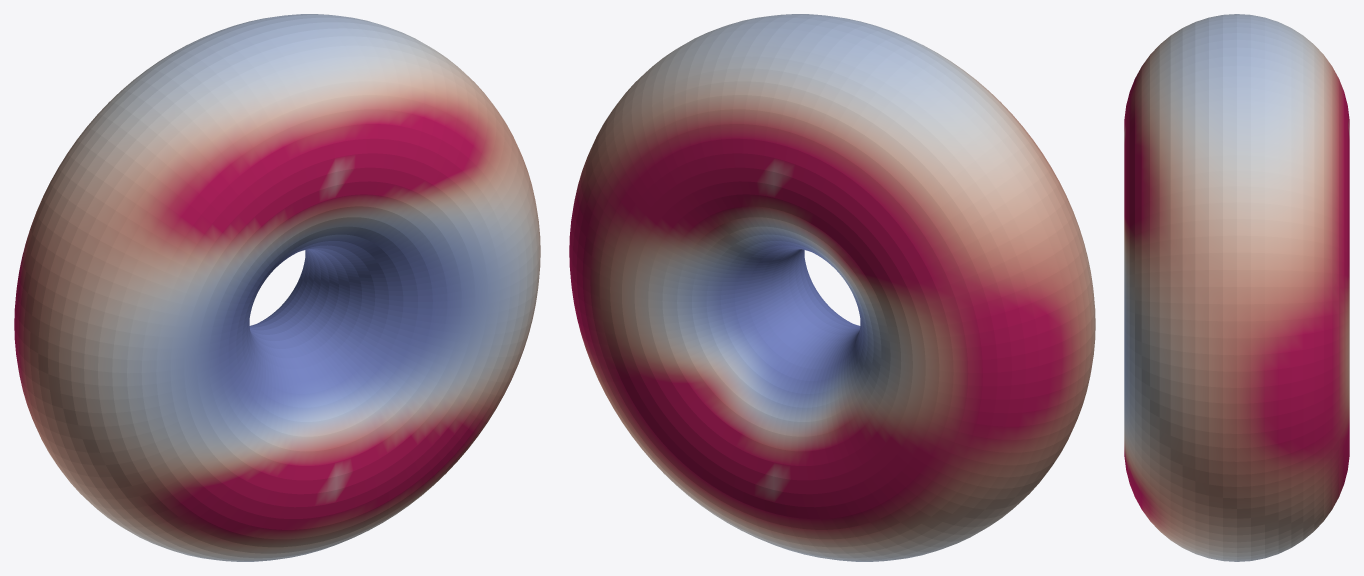
3 views of the same model, side by side, from view 1: azimuth 30°, elevation 25°; view 2: azimuth 150°, elevation 25°; view 3: azimuth 270°, elevation 25° (orthographic). The views are drawn at different scales.
Parts seen in each view (by area): view 1: world; view 2: world; view 3: world.
Part boxes in pixels (x1,y1,x2,y2): world: (14, 14, 540, 561); world: (569, 14, 1095, 561); world: (1124, 14, 1349, 561).
Size of the model in its own units: 20.4 by 20.4 by 8.38.
